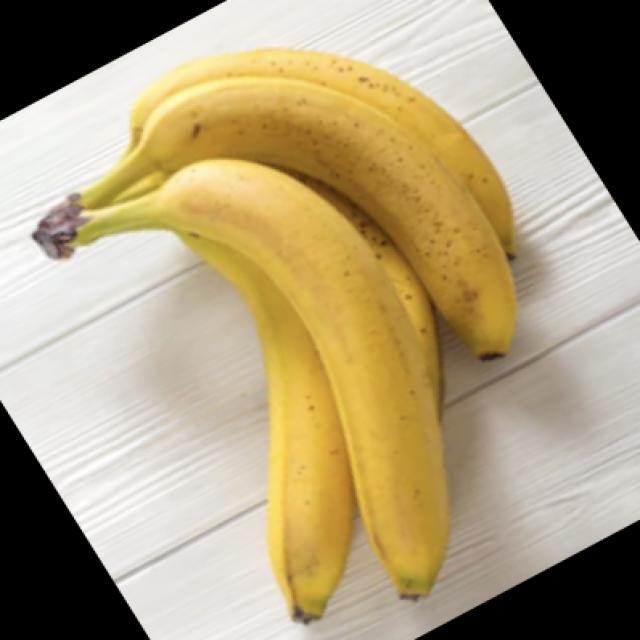Banana: (41, 51, 512, 622)
